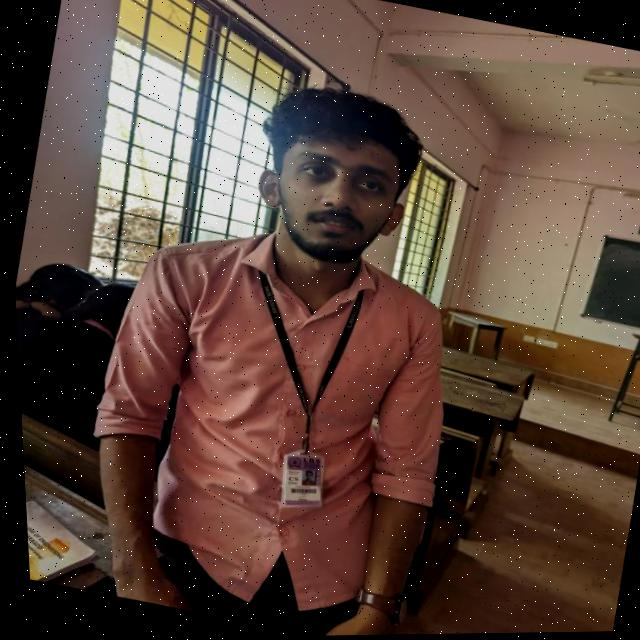id_card: (200, 241, 409, 527)
